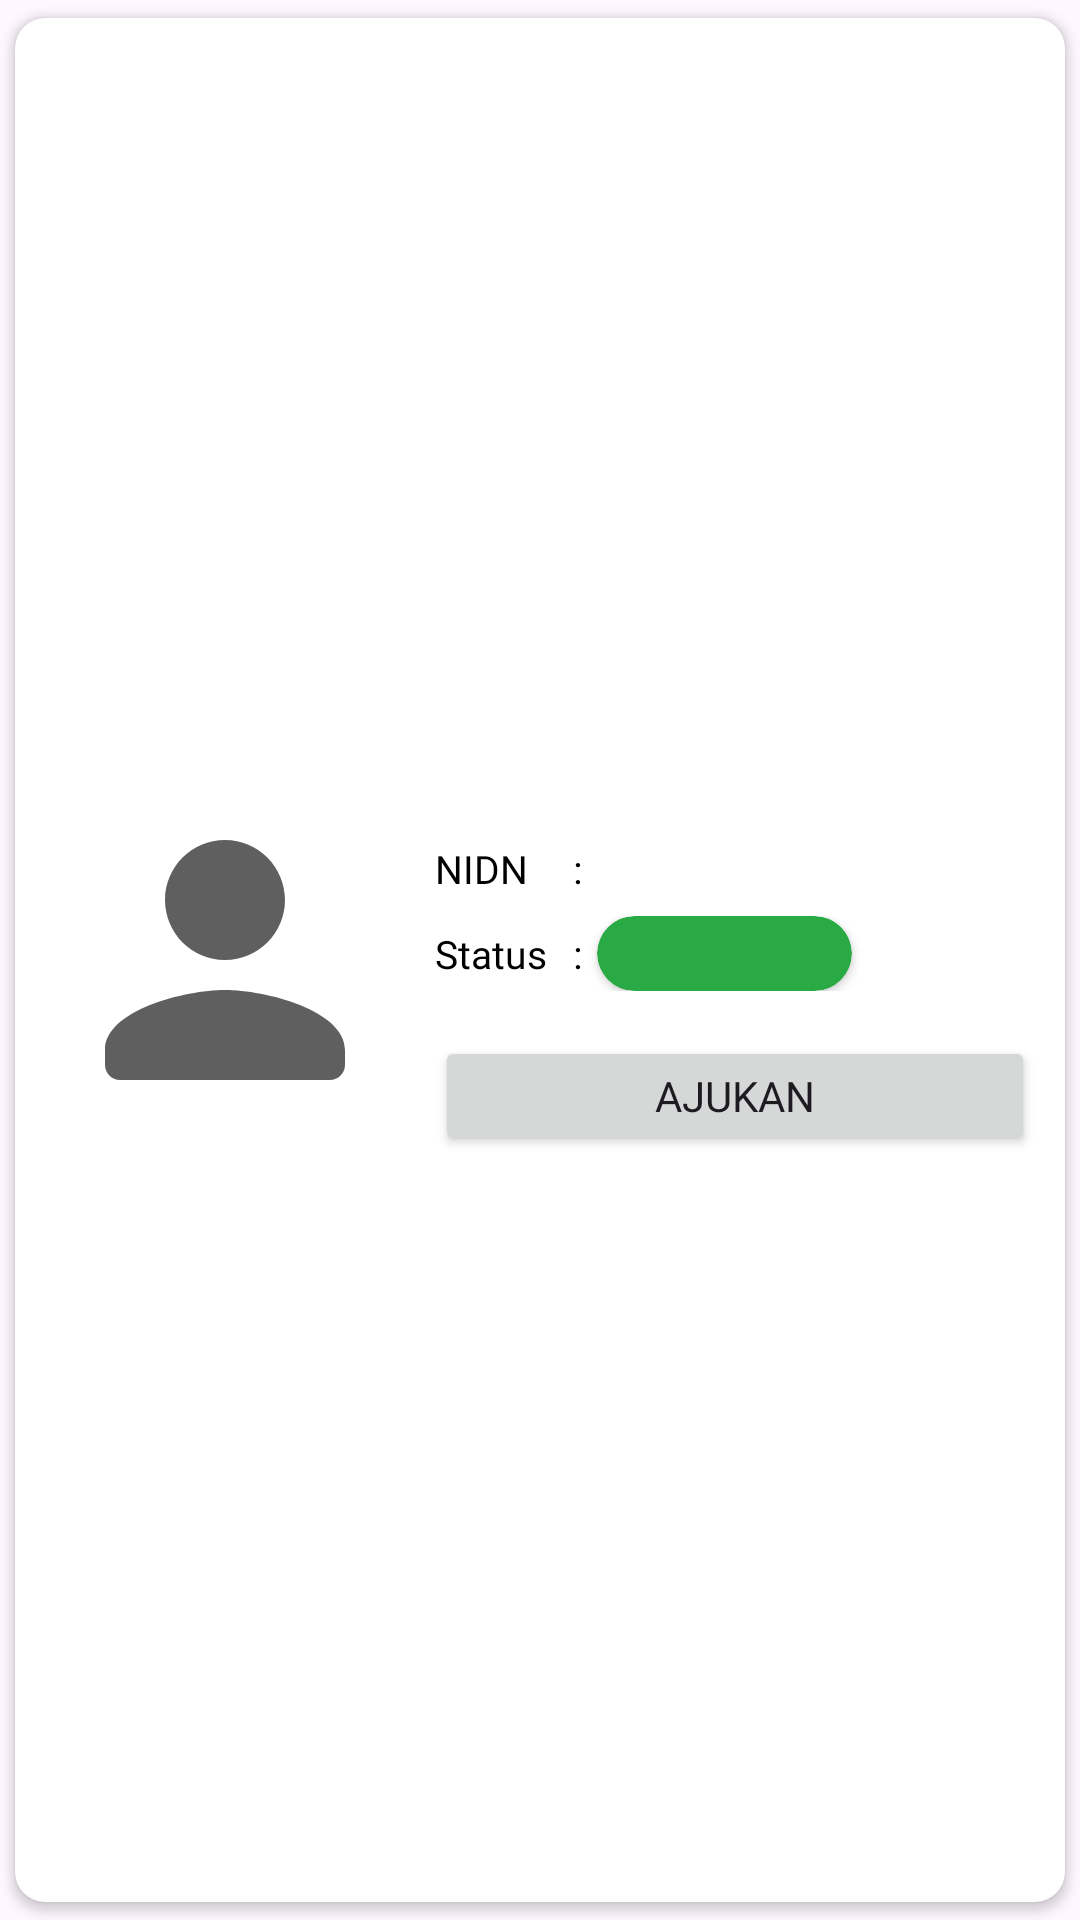

Point at icon controls on the screen. Image size 1080×1920, points as [x,y].
person: [225,960]
